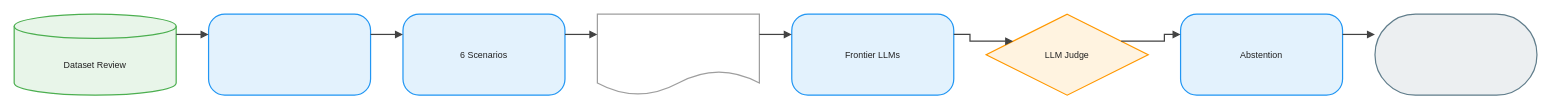
This 1552x110 diagram has some shape labels left out. Each missing label, with the centre of its shape:
20 Datasets: (289,54)
Reasoning Sets: (678,54)
Score: (1455,54)
